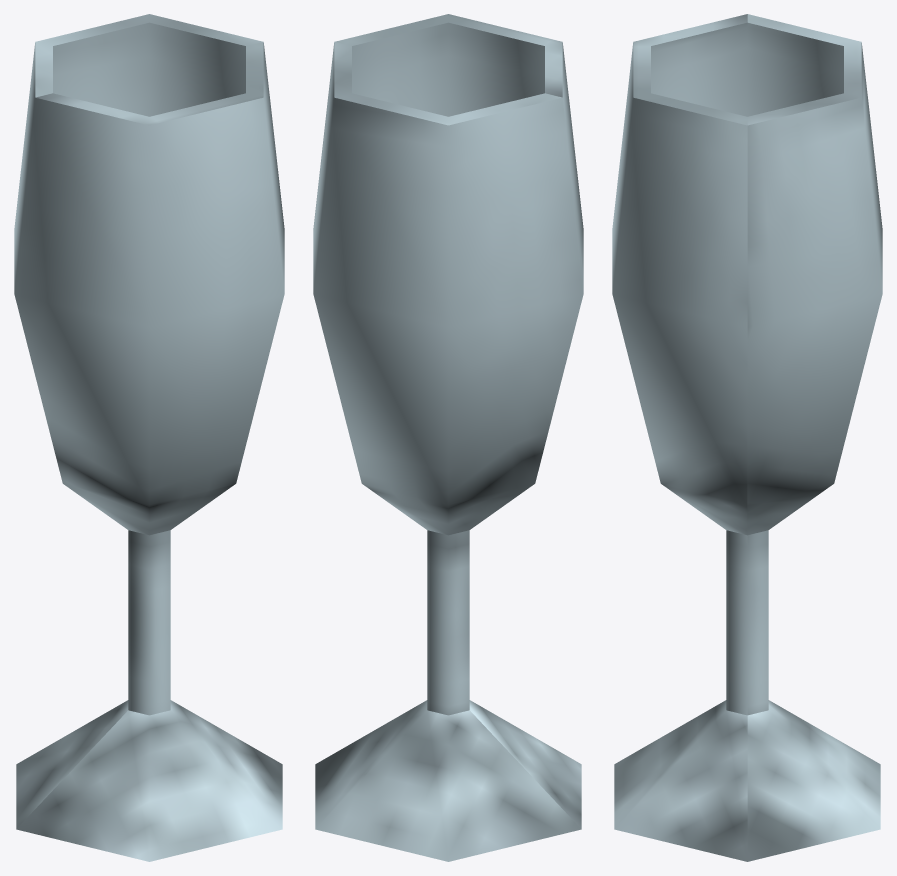
File: EmptyGlassV10.fbx
The picture shows the model from 3 angles, left to right: view 1: azimuth 30°, elevation 25°; view 2: azimuth 150°, elevation 25°; view 3: azimuth 270°, elevation 25°; orthographic projection.
Visible parts, largest first — view 1: Glasses.008; view 2: Glasses.008; view 3: Glasses.008.
Boxes of the visible parts, x1,y1,x2,y2 form: Glasses.008: [14, 14, 284, 861]; Glasses.008: [313, 14, 583, 861]; Glasses.008: [612, 14, 882, 861].
Size of the model in its own units: 0.0857 by 0.2204 by 0.0742.
